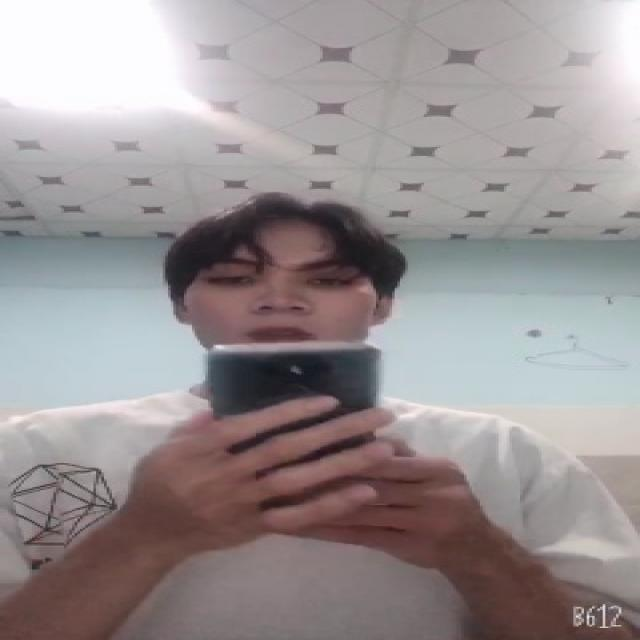Phone: (206, 338, 385, 500)
